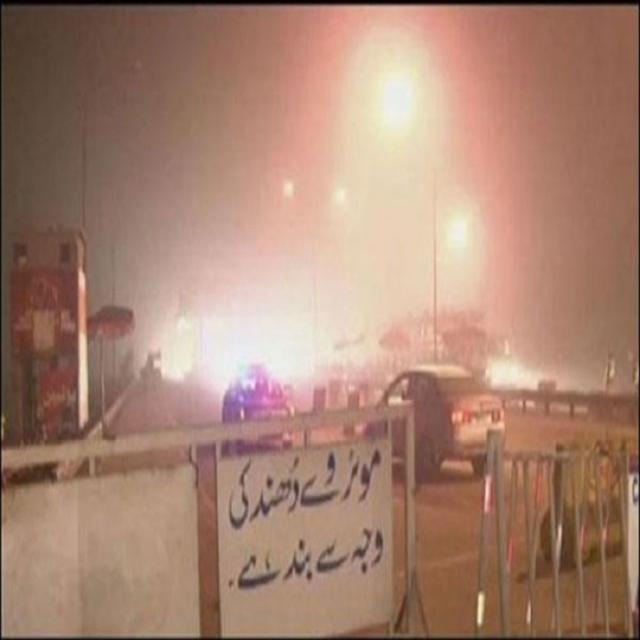car: (373, 366, 505, 478), (221, 370, 295, 434)
